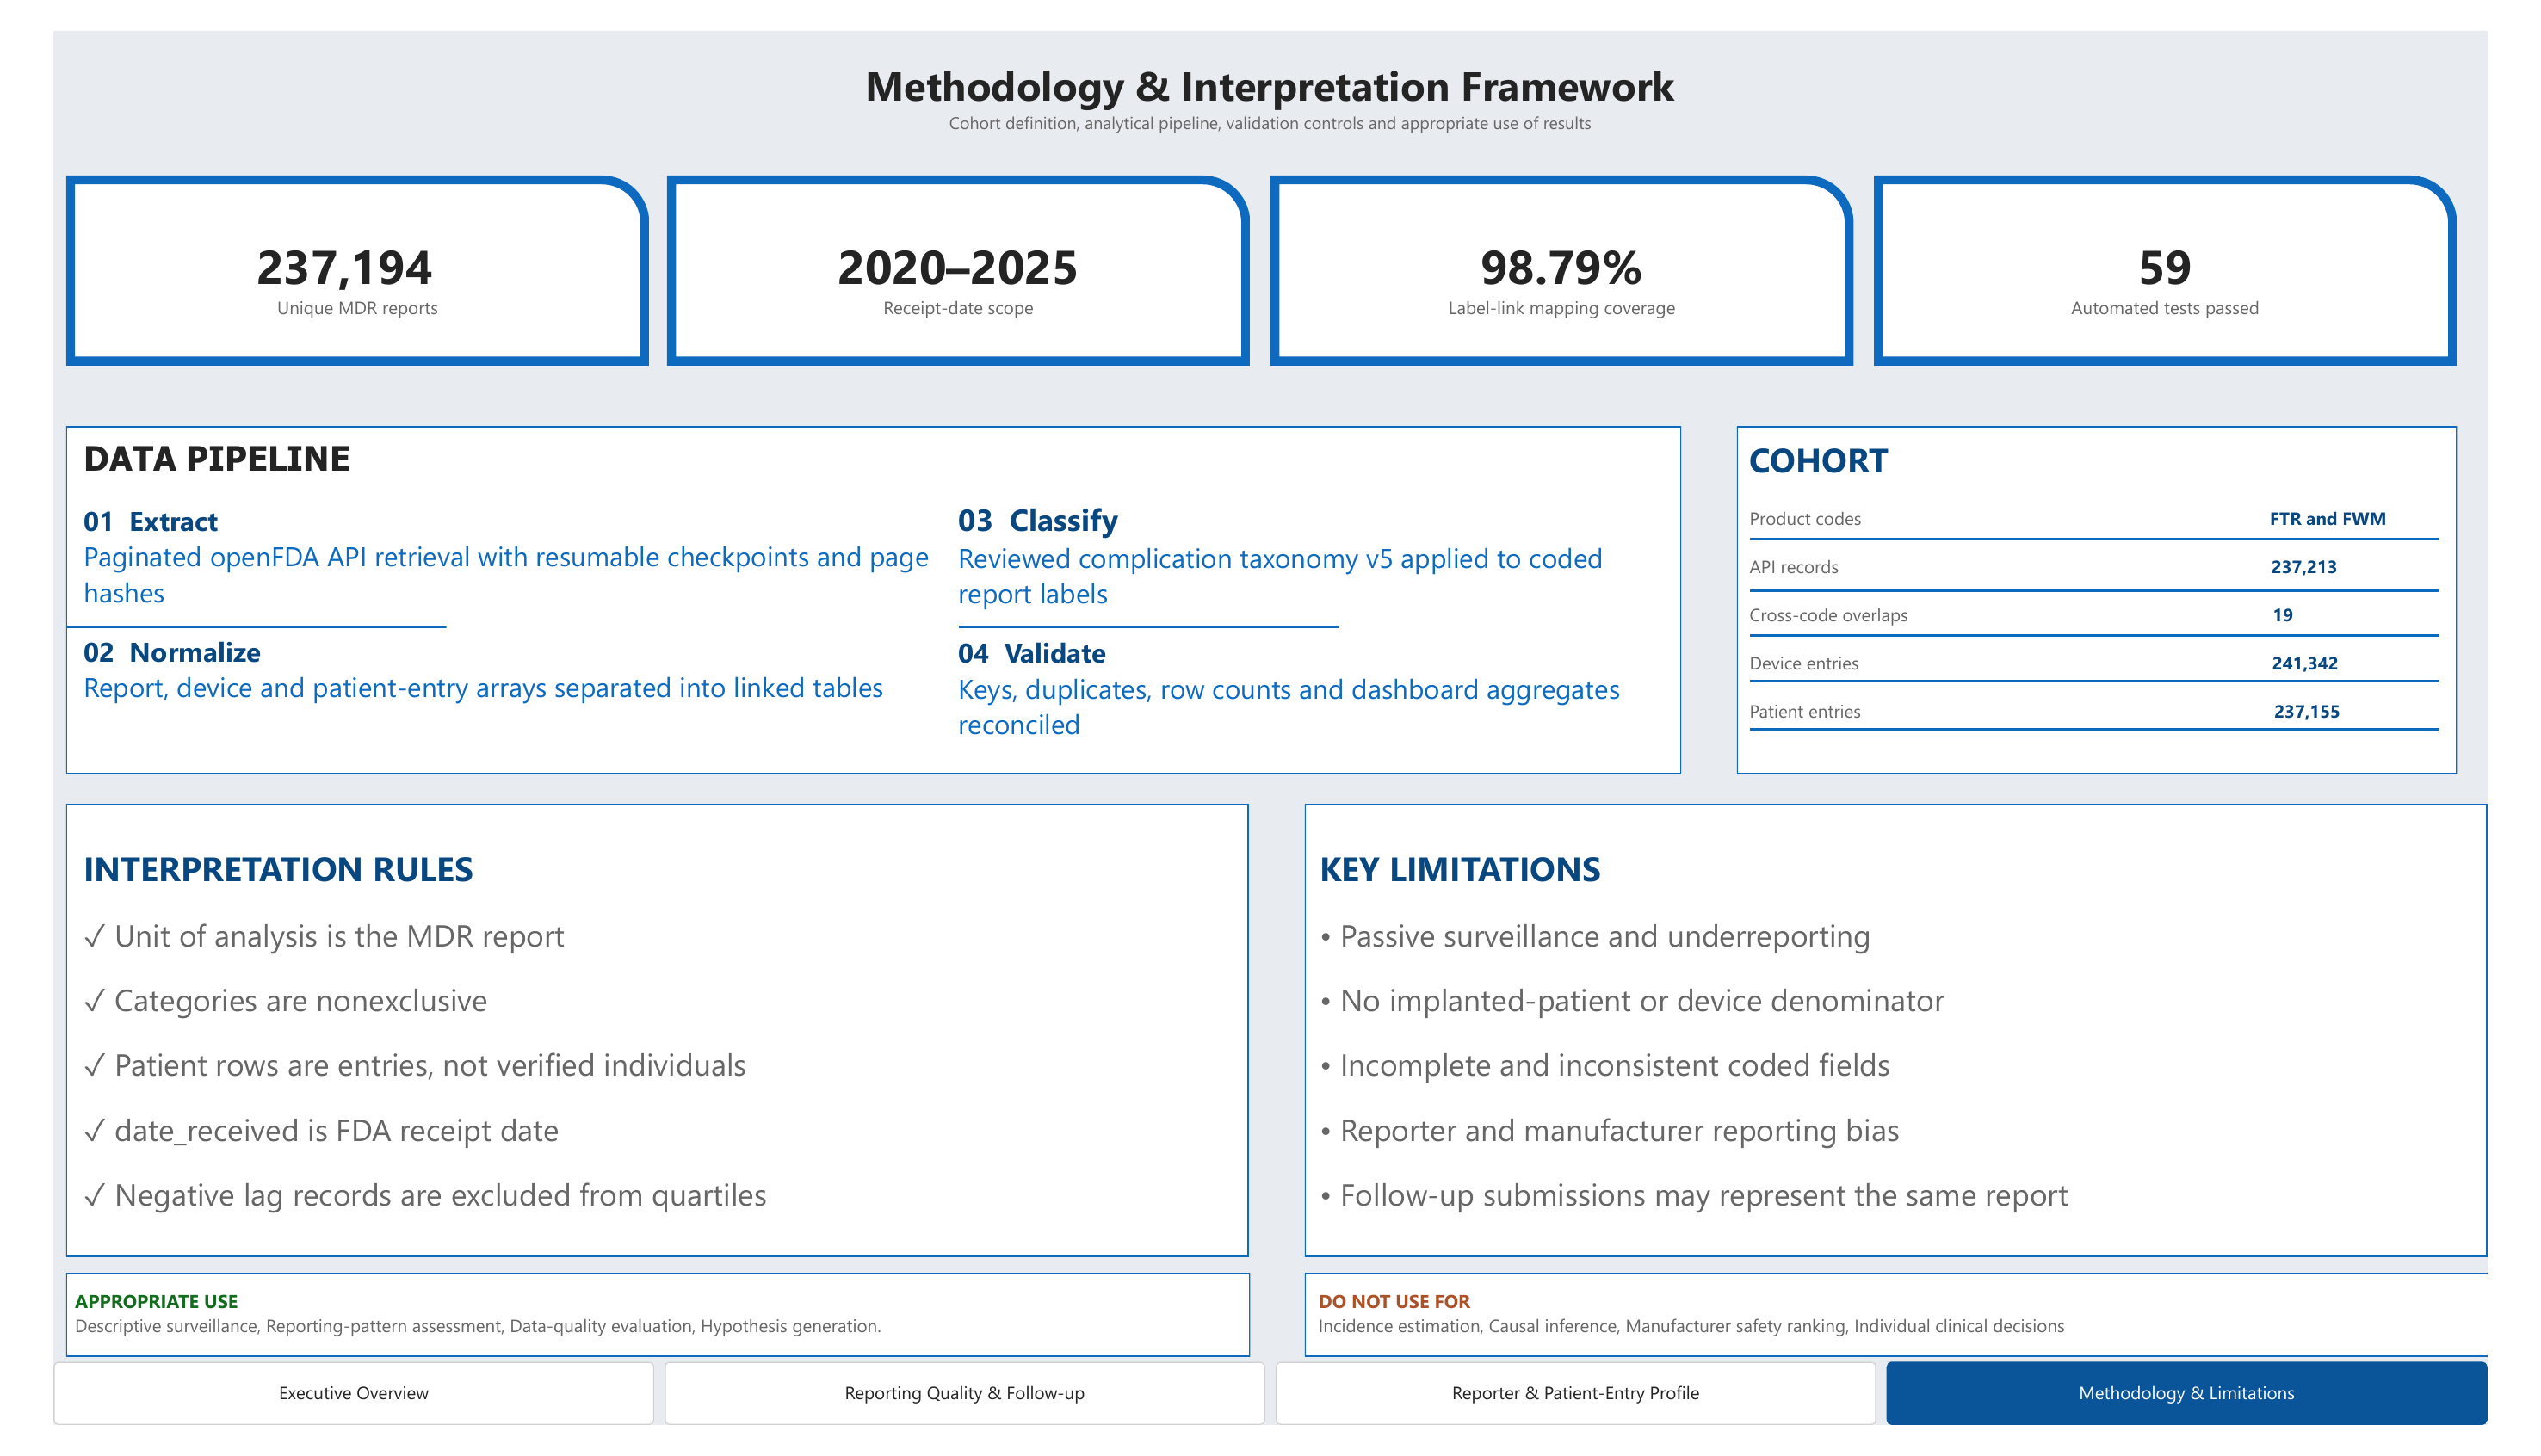

This screenshot's page, from the dashboard's own definition file:
{"tool":"powerbi","page":{"name":"Methodology & Limitations","canvas":[1920,1080],"ordinal":3},"visuals":[{"type":"textbox","box":[10,0,1900,93.8],"z":0},{"type":"shape","box":[10,94,460,150],"z":1000},{"type":"shape","box":[484,94,460,150],"z":2000},{"type":"shape","box":[960,94,460,150],"z":3000},{"type":"shape","box":[1436,94,460,150],"z":4000},{"type":"shape","box":[10,292,1274,274],"z":5000},{"type":"shape","box":[1328,292,568,274],"z":6000},{"type":"shape","box":[10,590,933.3,356.7],"z":7000},{"type":"shape","box":[986.7,590,933.3,356.7],"z":8000},{"type":"shape","box":[10,960,934,66],"z":9000},{"type":"shape","box":[986.7,960,934,66],"z":10000},{"type":"textbox","box":[68,140,342,104],"z":11000},{"type":"textbox","box":[10,140,460,104],"z":12000},{"type":"textbox","box":[484,140,460,104],"z":13000},{"type":"textbox","box":[960,140,460,104],"z":14000},{"type":"textbox","box":[1436,140,460,104],"z":15000},{"type":"textbox","box":[24,300,690,260],"z":16000},{"type":"textbox","box":[1338,300,558,266],"z":17000},{"type":"textbox","box":[23.6,622.2,919.4,337.5],"z":18000},{"type":"textbox","box":[998.6,622.2,920.8,337.5],"z":19000},{"type":"textbox","box":[16.7,971.7,920,55],"z":20000},{"type":"textbox","box":[998.3,971.7,733.3,55],"z":21000},{"type":"textbox","box":[714,292,570,260],"z":22000},{"type":"shape","box":[10,300,300,300],"z":22001},{"type":"shape","box":[714,300,300,300],"z":22002},{"type":"shape","box":[1338,231,544,300],"z":22003},{"type":"shape","box":[1338,272,544,300],"z":22004},{"type":"shape","box":[1338,307,544,300],"z":22005},{"type":"shape","box":[1338,343,544,300],"z":22006},{"type":"shape","box":[1338,381,544,300],"z":22007},{"type":"pageNavigator","box":[0,1030,1920,50],"z":22008}]}

Visuals, with their boxes in screenshot pixels (x1, y1, x2, y2), scaled from the page's 1920x1080 canvas onto the 2541x1456 screenshot:
textbox: bbox=[13, 0, 2528, 126]
shape: bbox=[13, 126, 622, 329]
shape: bbox=[640, 126, 1249, 329]
shape: bbox=[1270, 126, 1879, 329]
shape: bbox=[1901, 126, 2509, 329]
shape: bbox=[13, 393, 1699, 763]
shape: bbox=[1758, 393, 2509, 763]
shape: bbox=[13, 795, 1248, 1276]
shape: bbox=[1306, 795, 2540, 1276]
shape: bbox=[13, 1294, 1249, 1383]
shape: bbox=[1306, 1294, 2540, 1383]
textbox: bbox=[90, 188, 542, 329]
textbox: bbox=[13, 188, 622, 329]
textbox: bbox=[640, 188, 1249, 329]
textbox: bbox=[1270, 188, 1879, 329]
textbox: bbox=[1901, 188, 2509, 329]
textbox: bbox=[32, 404, 945, 755]
textbox: bbox=[1771, 404, 2509, 763]
textbox: bbox=[31, 839, 1248, 1294]
textbox: bbox=[1321, 839, 2540, 1294]
textbox: bbox=[22, 1310, 1240, 1384]
textbox: bbox=[1321, 1310, 2291, 1384]
textbox: bbox=[945, 393, 1699, 744]
shape: bbox=[13, 404, 411, 809]
shape: bbox=[945, 404, 1342, 809]
shape: bbox=[1771, 312, 2491, 716]
shape: bbox=[1771, 367, 2491, 771]
shape: bbox=[1771, 414, 2491, 818]
shape: bbox=[1771, 462, 2491, 867]
shape: bbox=[1771, 514, 2491, 918]
pageNavigator: bbox=[0, 1389, 2540, 1455]
